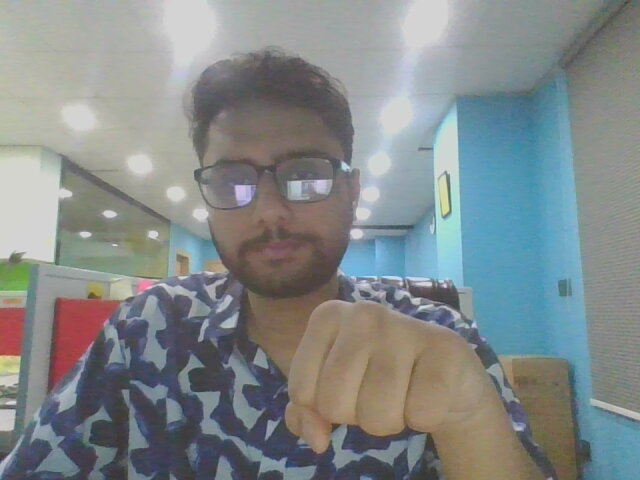yes: (281, 292, 539, 480)
